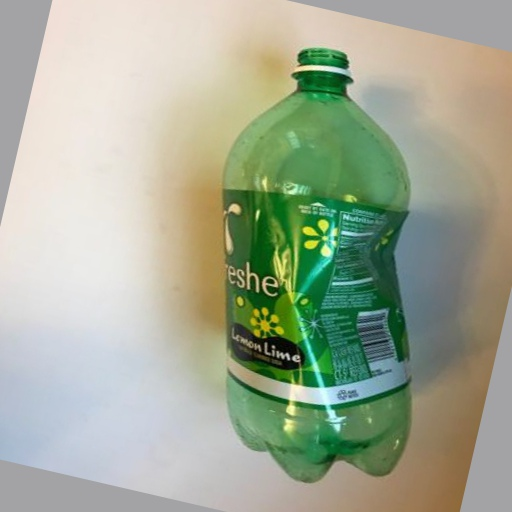Plastic_0: (222, 45, 412, 480)
